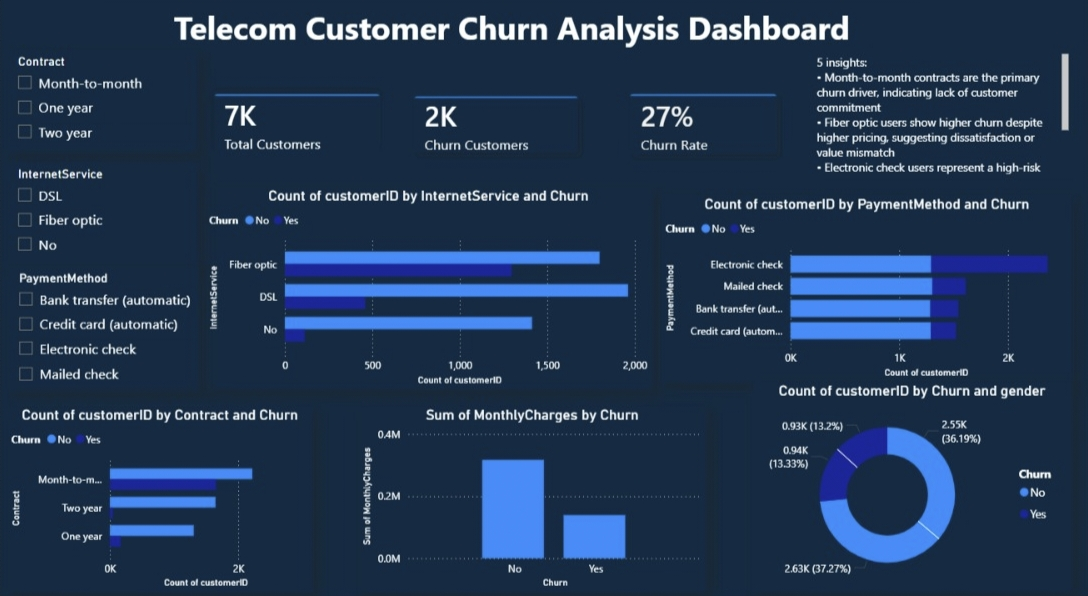

What the dashboard file says about the page in this screenshot:
{"tool":"powerbi","page":{"name":"Page 1","canvas":[1280,720],"ordinal":0},"visuals":[{"type":"cardVisual","fields":{"Data":["churn_dataset.Churn Customers"]},"box":[454.9,96.6,255.6,129.6],"z":0},{"type":"cardVisual","fields":{"Data":["churn_dataset.Churn Rate"]},"box":[710.5,96.6,231.1,129.6],"z":1000},{"type":"cardVisual","fields":{"Data":["churn_dataset.Total Customers"]},"box":[222.6,96.6,253.1,129.6],"z":2000},{"type":"textbox","box":[121.1,17.1,959.9,73.4],"z":3000},{"type":"clusteredBarChart","fields":{"Category":["churn_dataset.InternetService"],"Series":["churn_dataset.Churn"],"Y":["CountNonNull(churn_dataset.customerID)"]},"box":[240.9,234.8,524.6,237.2],"z":4000},{"type":"barChart","fields":{"Category":["churn_dataset.PaymentMethod"],"Y":["CountNonNull(churn_dataset.customerID)"],"Series":["churn_dataset.Churn"]},"box":[776.5,244.6,483,218.9],"z":5000},{"type":"clusteredColumnChart","fields":{"Category":["churn_dataset.Churn"],"Y":["Sum(churn_dataset.MonthlyCharges)"]},"box":[421.2,491.2,408.8,218.8],"z":6000},{"type":"clusteredBarChart","fields":{"Category":["churn_dataset.Contract"],"Y":["CountNonNull(churn_dataset.customerID)"],"Series":["churn_dataset.Churn"]},"box":[8.8,491.2,358.8,218.8],"z":7000},{"type":"donutChart","fields":{"Category":["churn_dataset.Churn"],"Y":["CountNonNull(churn_dataset.customerID)"],"Series":["churn_dataset.gender"]},"box":[882.5,463.8,376.2,246.2],"z":8000},{"type":"slicer","fields":{"Values":["churn_dataset.Contract"]},"box":[8.6,73.4,223.8,121.1],"z":9000},{"type":"slicer","fields":{"Values":["churn_dataset.InternetService"]},"box":[8.6,205.4,223.8,122.3],"z":10000},{"type":"slicer","fields":{"Values":["churn_dataset.PaymentMethod"]},"box":[9.8,327.7,223.8,145.5],"z":11000},{"type":"textbox","box":[953.8,73.4,305.7,152.9],"z":11001}]}

Visuals, with their boxes in screenshot pixels (x1, y1, x2, y2), scaled from the page's 1280x720 canvas onto the 1088x596 screenshot:
cardVisual - churn_dataset.Churn Customers: <bbox>387, 80, 604, 187</bbox>
cardVisual - churn_dataset.Churn Rate: <bbox>604, 80, 800, 187</bbox>
cardVisual - churn_dataset.Total Customers: <bbox>189, 80, 404, 187</bbox>
textbox: <bbox>103, 14, 919, 75</bbox>
clusteredBarChart - churn_dataset.InternetService x churn_dataset.Churn: <bbox>205, 194, 651, 391</bbox>
barChart - churn_dataset.PaymentMethod x CountNonNull(churn_dataset.customerID): <bbox>660, 202, 1071, 384</bbox>
clusteredColumnChart - churn_dataset.Churn x Sum(churn_dataset.MonthlyCharges): <bbox>358, 407, 706, 588</bbox>
clusteredBarChart - churn_dataset.Contract x CountNonNull(churn_dataset.customerID): <bbox>7, 407, 312, 588</bbox>
donutChart - churn_dataset.Churn x CountNonNull(churn_dataset.customerID): <bbox>750, 384, 1070, 588</bbox>
slicer - churn_dataset.Contract: <bbox>7, 61, 198, 161</bbox>
slicer - churn_dataset.InternetService: <bbox>7, 170, 198, 271</bbox>
slicer - churn_dataset.PaymentMethod: <bbox>8, 271, 199, 392</bbox>
textbox: <bbox>811, 61, 1071, 187</bbox>
